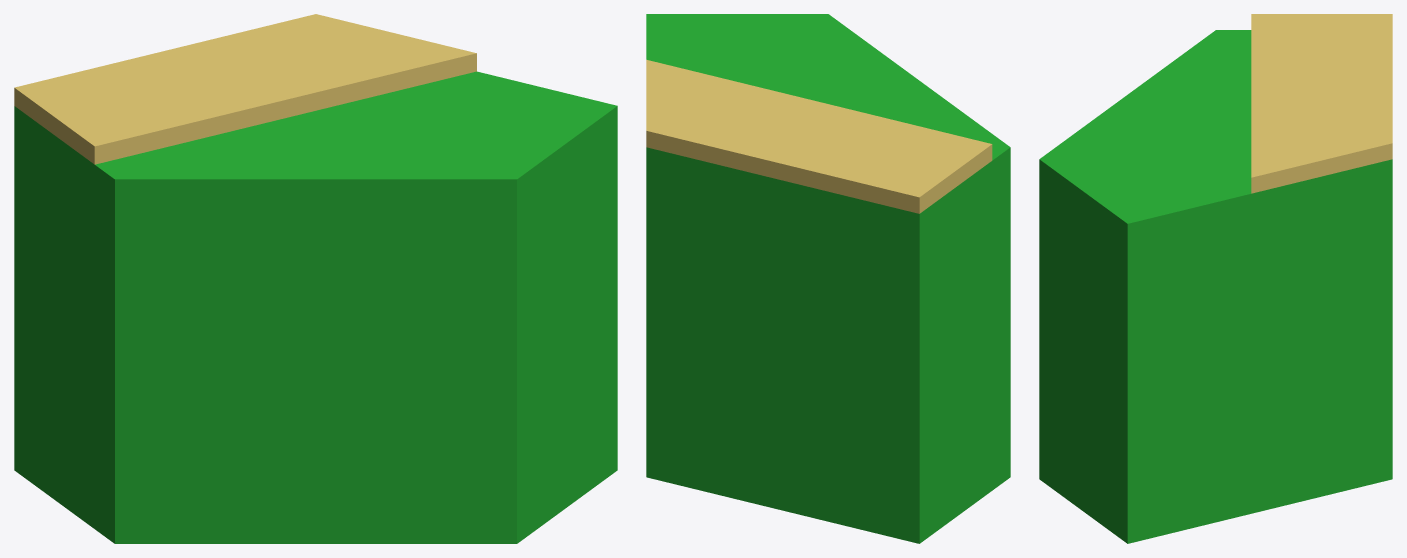
File: module-corner_land_path_right_001.glb
The picture shows the model from 3 angles, left to right: view 1: azimuth 30°, elevation 25°; view 2: azimuth 150°, elevation 25°; view 3: azimuth 270°, elevation 25°; orthographic projection. The views are drawn at different scales.
Visible parts, largest first — view 1: module-corner_land_path_right_001; view 2: module-corner_land_path_right_001; view 3: module-corner_land_path_right_001.
Part boxes in pixels (x1=…): module-corner_land_path_right_001: x1=14, y1=14, x2=617, y2=543; module-corner_land_path_right_001: x1=646, y1=14, x2=1010, y2=543; module-corner_land_path_right_001: x1=1039, y1=14, x2=1392, y2=543.
Size of the model in its own units: 0.6495 by 0.525 by 0.5.
